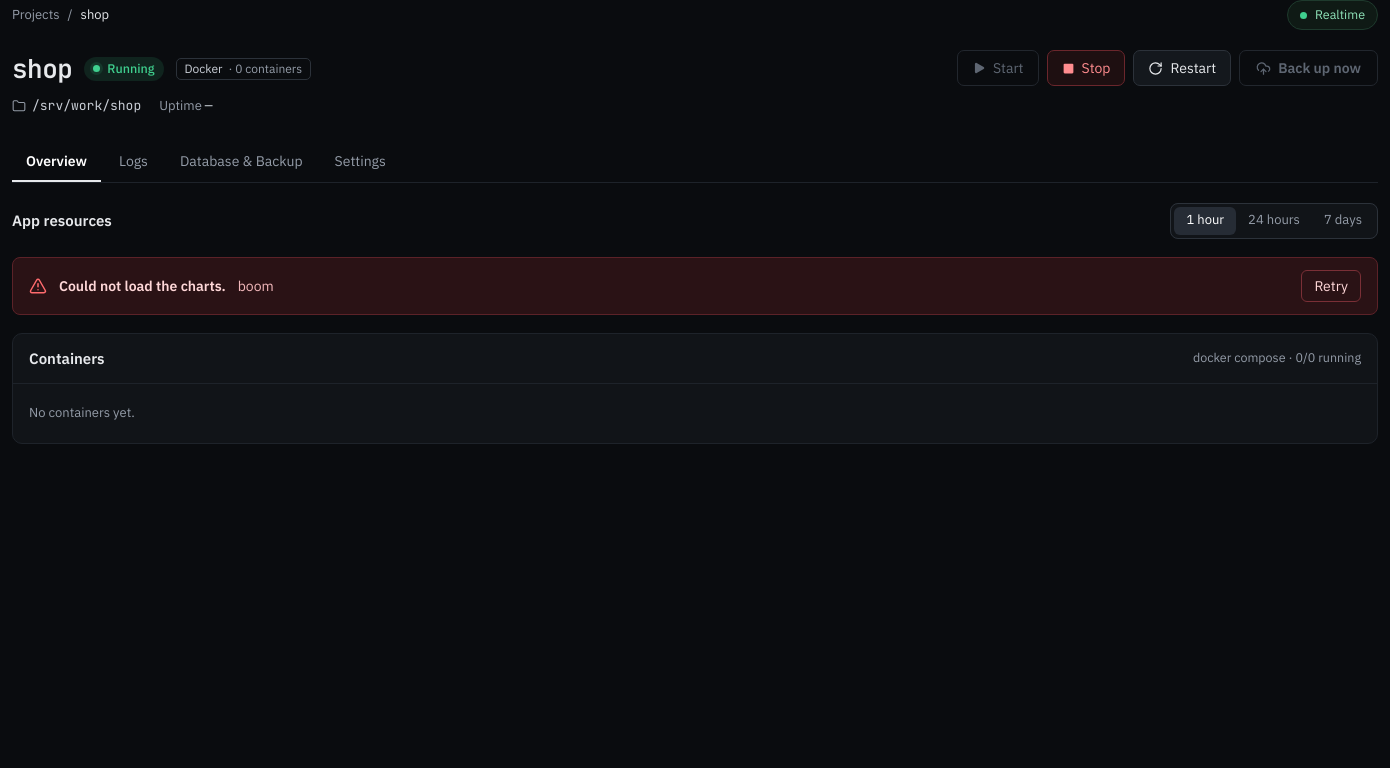
project resource charts › shows a load error with a retry
Expected: the text "Could not load the charts." is shown, [59,276,226,296]
Click the button "Retry" at (1331,286), box [1301,270,1361,302]
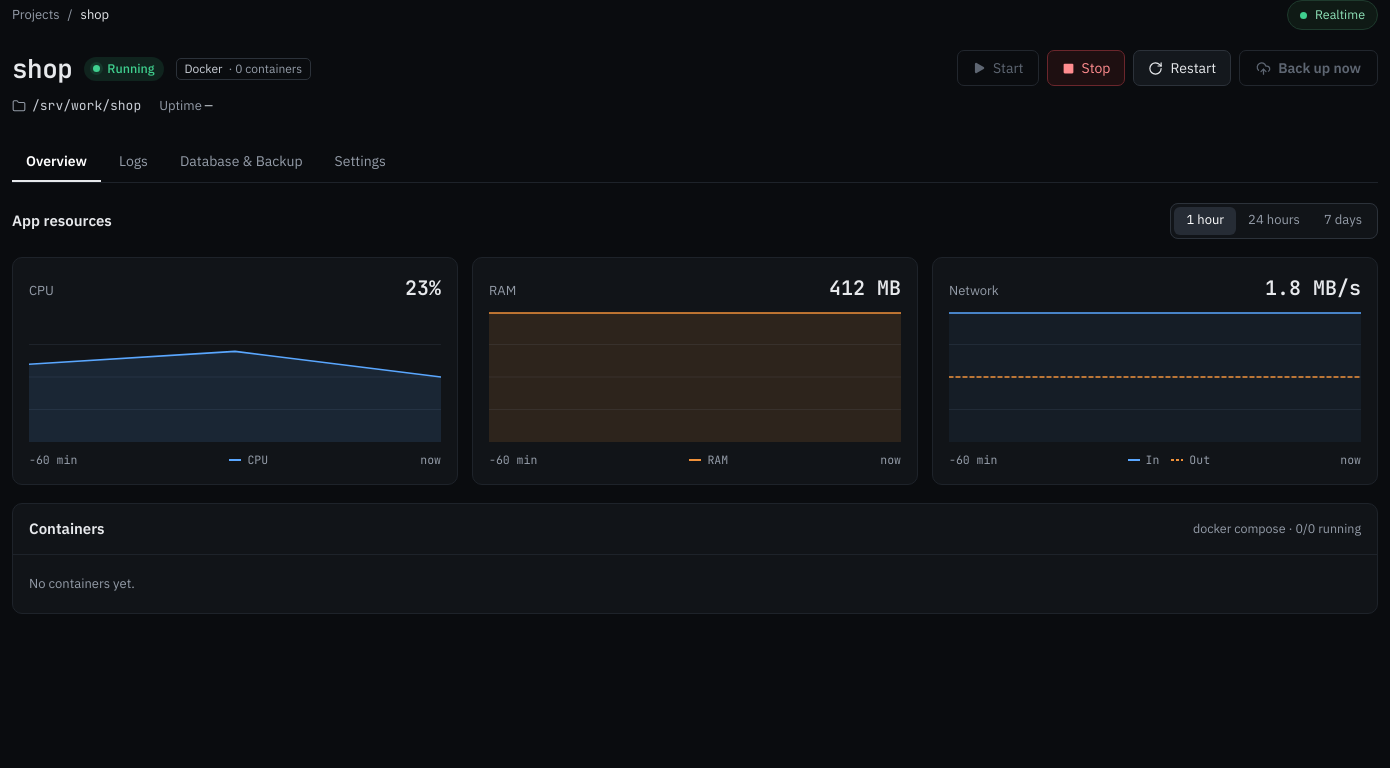
Expected: the picture named "CPU chart, last 1 hour" is shown, [29,312,441,442]
